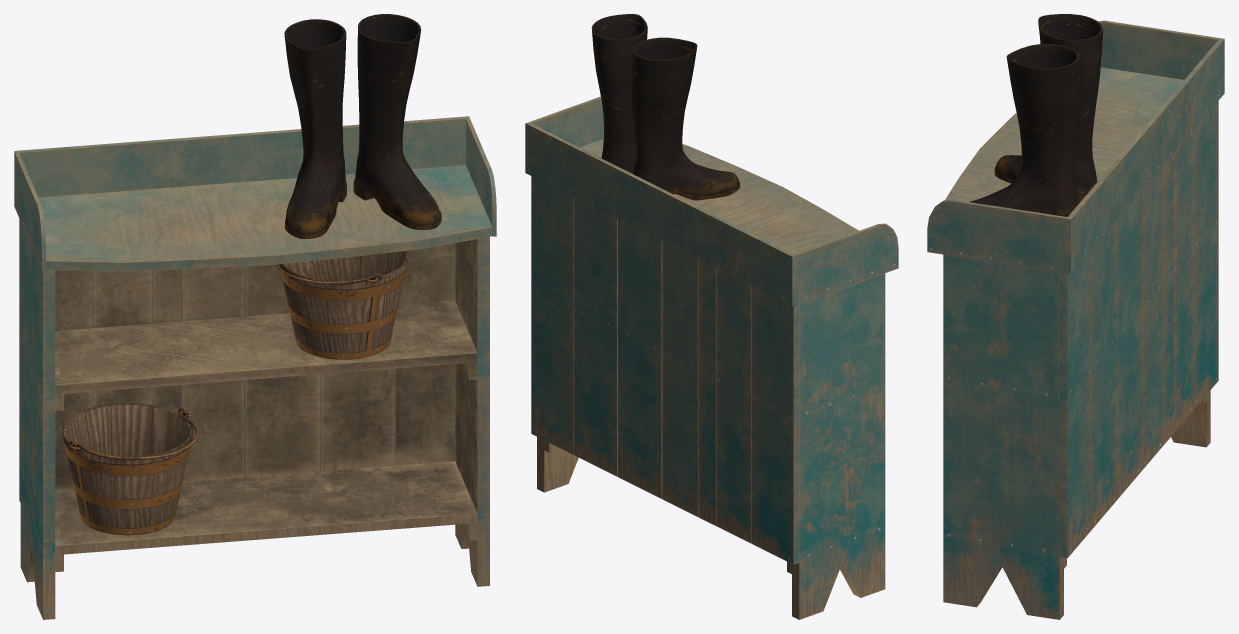
Rendered from bucket_bench_19th_century.glb.
The picture shows the model from 3 angles, left to right: view 1: azimuth 30°, elevation 25°; view 2: azimuth 150°, elevation 25°; view 3: azimuth 270°, elevation 25°; orthographic projection. The views are drawn at different scales.
Visible parts, largest first — view 1: Object_3, Object_4, Object_2; view 2: Object_3, Object_2; view 3: Object_3, Object_2.
Part boxes in pixels (bbox=[...]): Object_3: bbox=[14, 116, 496, 619]; Object_4: bbox=[62, 250, 408, 535]; Object_2: bbox=[284, 14, 441, 238]; Object_3: bbox=[525, 96, 898, 619]; Object_2: bbox=[591, 14, 740, 200]; Object_3: bbox=[927, 20, 1224, 619]; Object_2: bbox=[969, 14, 1102, 216].
Bounding box in the file's own units: 1.07 × 1.29 × 0.6641.
3 materials, 3 textured.
